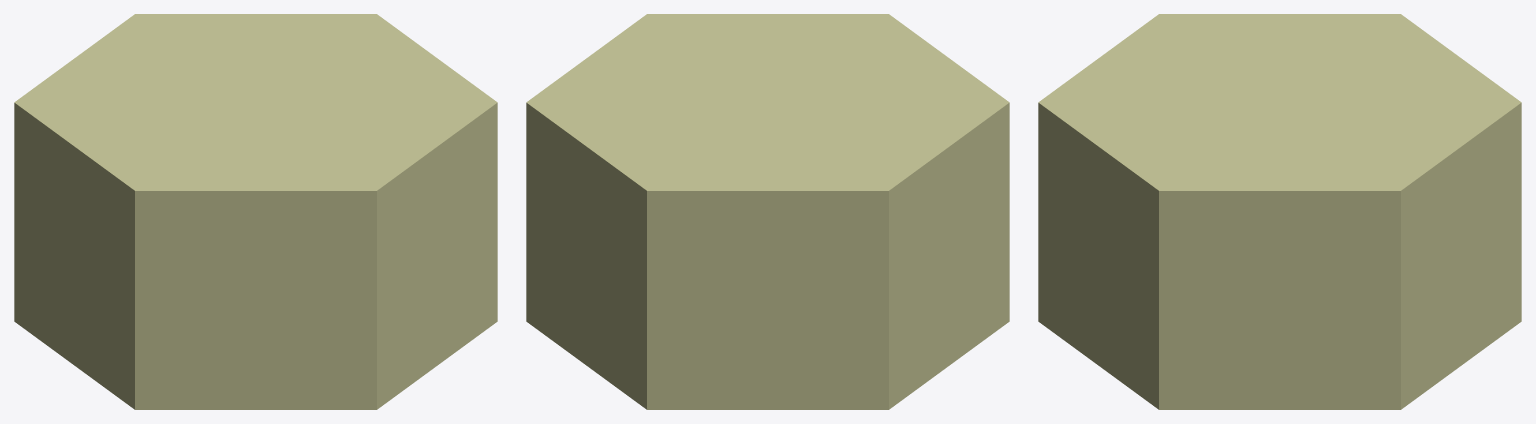
File: route.glb
3 views of the same model, side by side, from view 1: azimuth 30°, elevation 25°; view 2: azimuth 150°, elevation 25°; view 3: azimuth 270°, elevation 25° (orthographic).
Parts seen in each view (by area): view 1: route; view 2: route; view 3: route.
Part boxes in pixels (left/top/right/bottom): route: left=14, top=14, right=497, bottom=409; route: left=526, top=14, right=1009, bottom=409; route: left=1038, top=14, right=1521, bottom=409.
Size of the model in its own units: 1.73 by 1 by 2.
